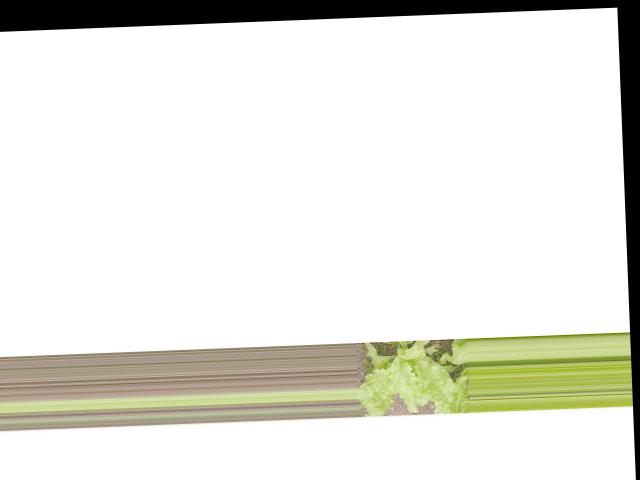lettuce: (356, 333, 470, 413)
